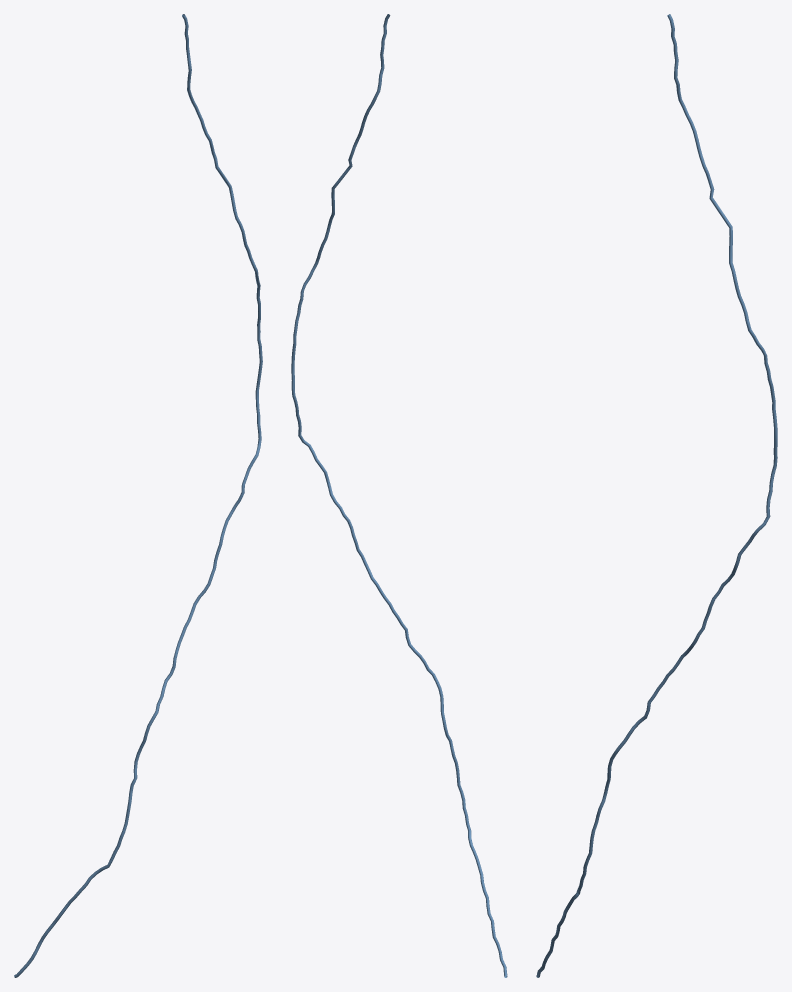
The model's file is sweep88.fbx.
3 renders of one model, left to right at view 1: azimuth 30°, elevation 25°; view 2: azimuth 150°, elevation 25°; view 3: azimuth 330°, elevation 25°, orthographic. The views are drawn at different scales.
Visible parts, largest first — view 1: sweep88; view 2: sweep88; view 3: sweep88.
Part boxes in pixels (x1=…): sweep88: x1=14, y1=14, x2=262, y2=977; sweep88: x1=291, y1=14, x2=507, y2=977; sweep88: x1=536, y1=14, x2=777, y2=977.
Size of the model in its own units: 1.61 by 6.18 by 0.4111.
